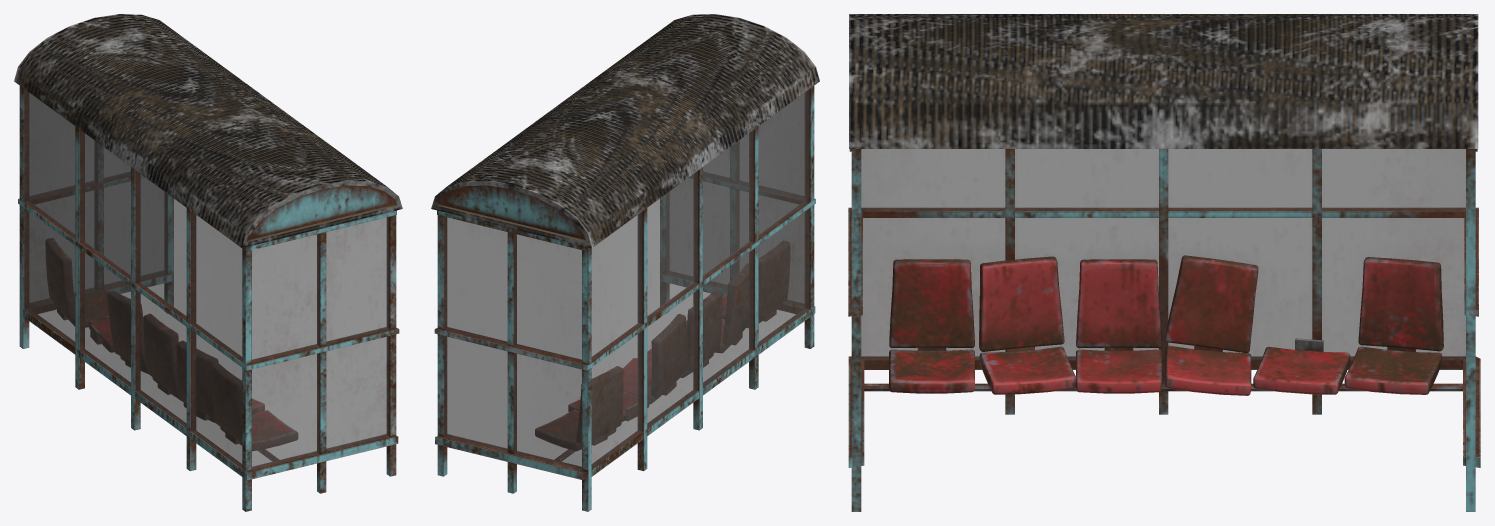
The model's file is old_soviet_bus_stop.glb.
3 views of the same model, side by side, from view 1: azimuth 30°, elevation 25°; view 2: azimuth 150°, elevation 25°; view 3: azimuth 270°, elevation 25° (orthographic). The views are drawn at different scales.
Visible parts, largest first — view 1: BusStop_low; view 2: BusStop_low; view 3: BusStop_low.
Boxes of the visible parts, box(x1,y1,x2,y2) form: BusStop_low: box(14, 14, 402, 511); BusStop_low: box(431, 14, 819, 511); BusStop_low: box(848, 14, 1480, 511).
Bounding box in the file's own units: 100 × 184 × 247.
Materials: 5 (5 with a texture image).
